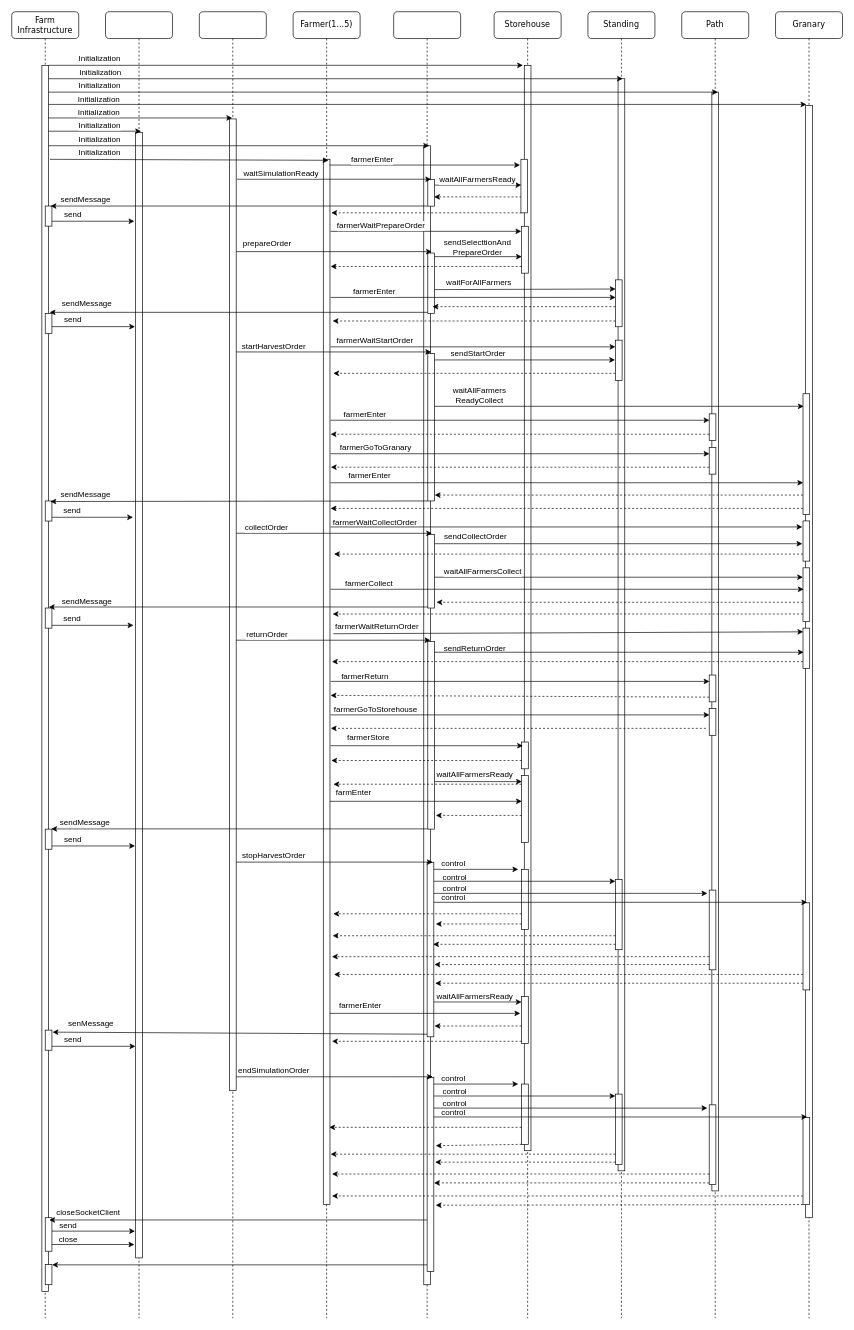
Some shapes in this 854 by 1330 pixel diagram are drawn without their labels. The box of each missing label's shape, as (x1, y1, x2, y2) in pixels:
CCProxy: (393, 11, 461, 1318)
SocketClient: (105, 11, 173, 1318)
SocketServer: (199, 11, 266, 1318)
